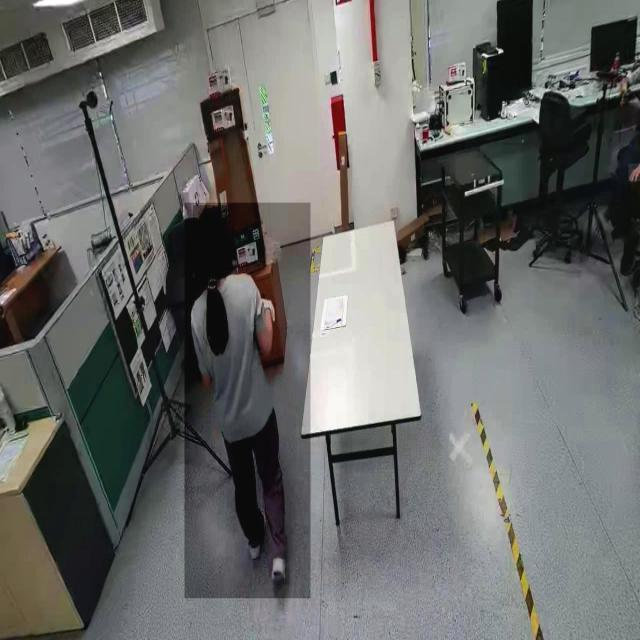hand_noglove: (628, 164, 640, 182)
head_nohelmet: (193, 206, 227, 237)
person: (184, 203, 310, 599)
